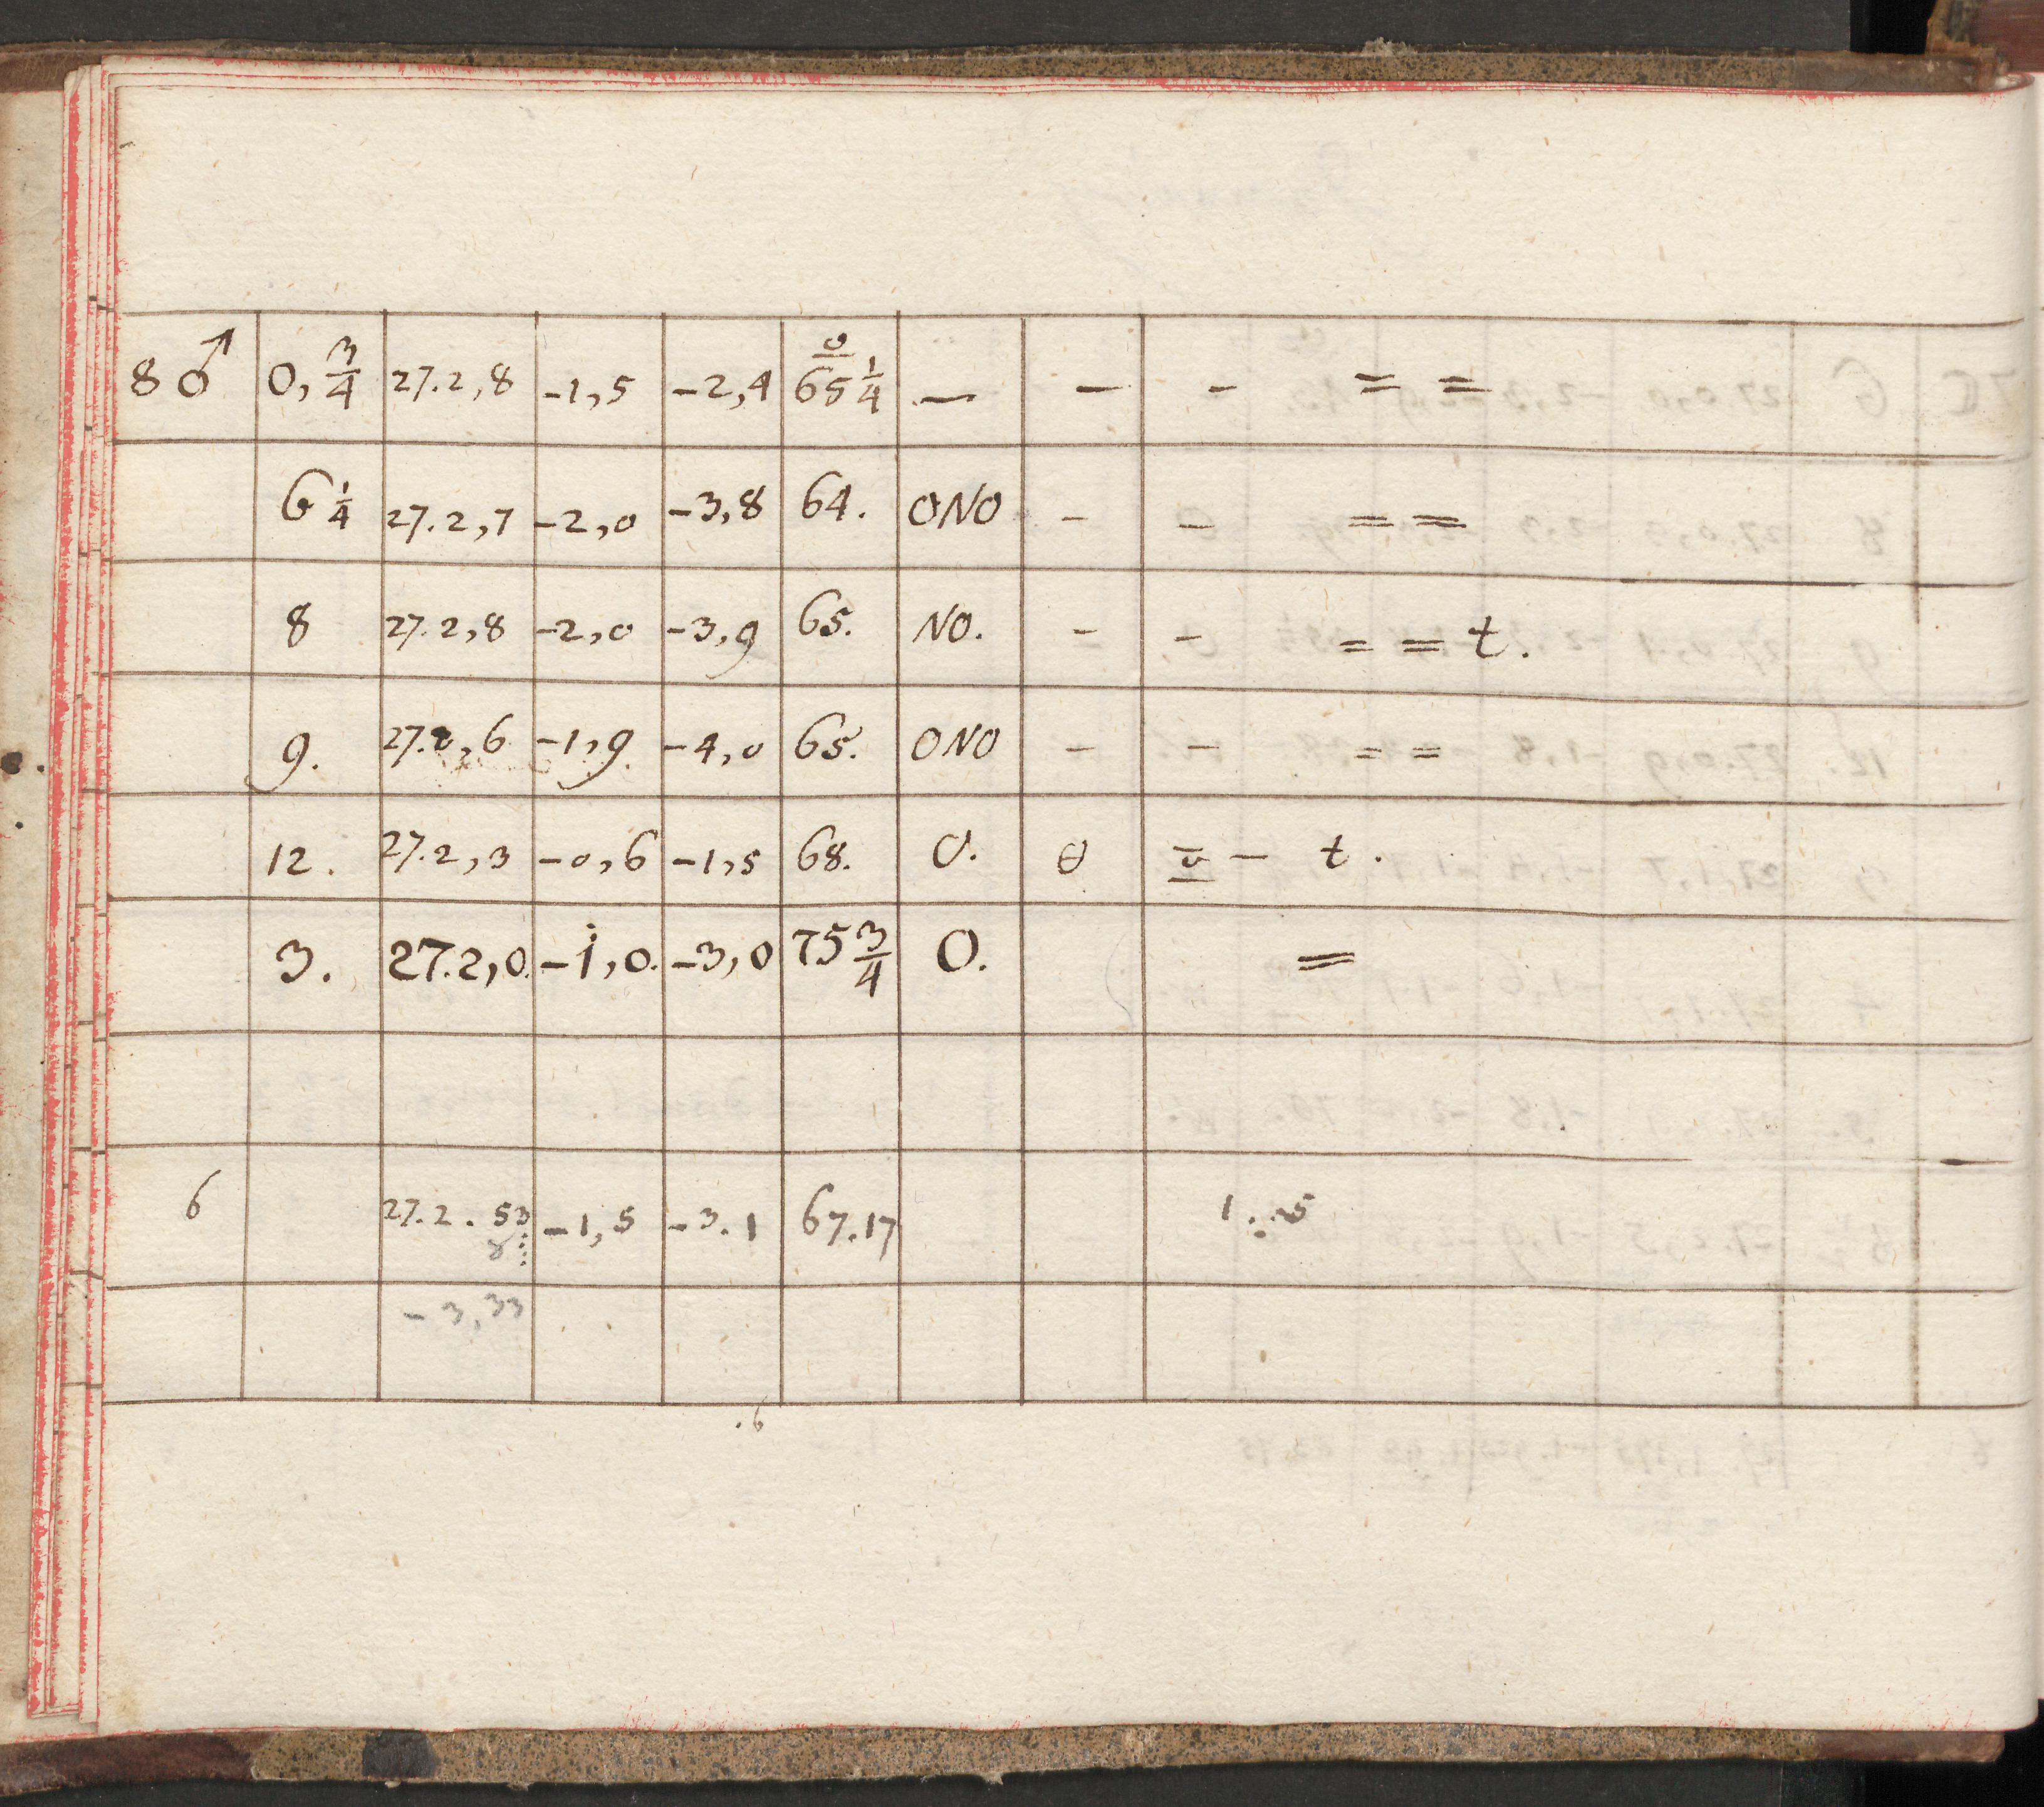bordered: (119, 314, 2030, 1408)
